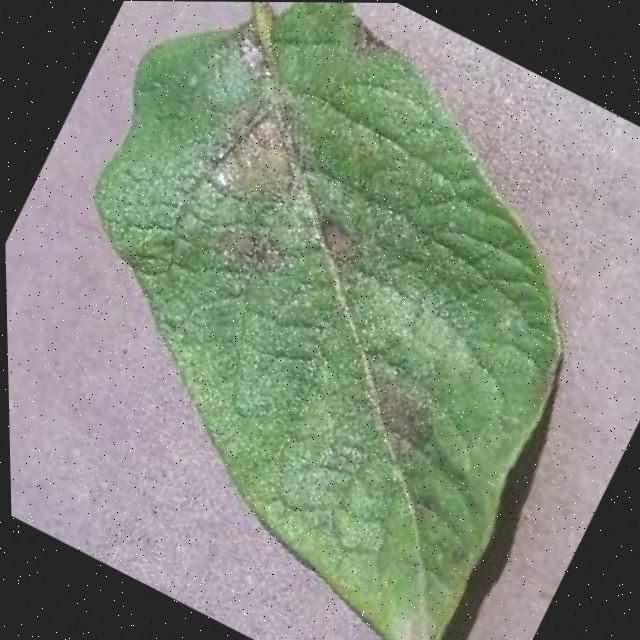Late_blight: (299, 324, 501, 503), (174, 77, 335, 231), (289, 201, 408, 306), (192, 207, 309, 313)
